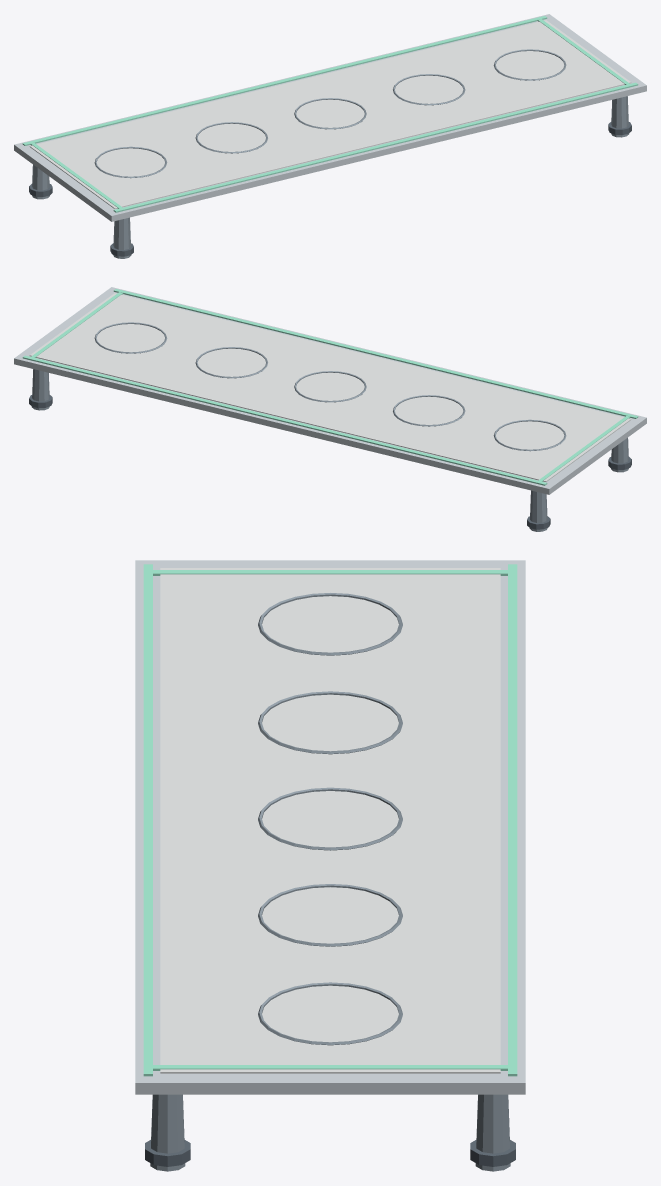
File: mesa_acero.glb
3 renders of one model, top to bottom at view 1: azimuth 30°, elevation 25°; view 2: azimuth 150°, elevation 25°; view 3: azimuth 270°, elevation 25°, orthographic. The views are drawn at different scales.
Parts seen in each view (by area): view 1: mesa_acero; view 2: mesa_acero; view 3: mesa_acero.
Part boxes in pixels (x1=…): mesa_acero: x1=14, y1=14, x2=646, y2=258; mesa_acero: x1=14, y1=287, x2=646, y2=531; mesa_acero: x1=135, y1=560, x2=525, y2=1171.
Bounding box in the file's own units: 11.4 × 1.05 × 3.6.
